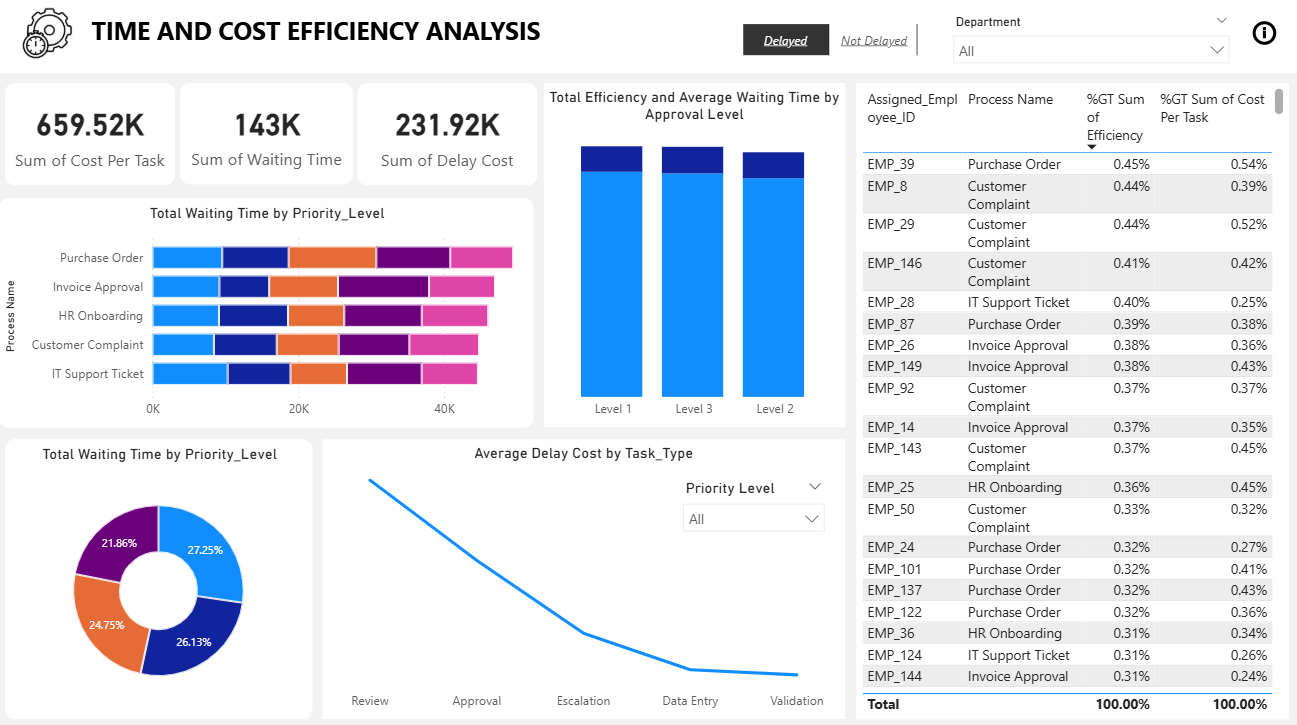

The dashboard page shown, as its layout file describes it:
{"tool":"powerbi","page":{"name":"Page 1","canvas":[1280,720],"ordinal":0},"visuals":[{"type":"shape","box":[0,0,1280.2,78.6],"z":0},{"type":"actionButton","box":[1217.9,23.2,47.7,31.8],"z":1000},{"type":"textbox","box":[89.7,16,460.7,45.5],"z":2000},{"type":"image","box":[0,8.6,99,61.1],"z":3000},{"type":"card","fields":{"Values":["Sum(Workflow.Cost_Per_Task)"]},"box":[9.8,88,166.3,100.3],"z":4000},{"type":"card","fields":{"Values":["Sum(Workflow.Waiting_Time)"]},"box":[181,88,170,99],"z":5000},{"type":"card","fields":{"Values":["Sum(Workflow.Delay_Cost)"]},"box":[354.6,88,176.1,100.3],"z":6000},{"type":"tableEx","fields":{"Values":["Workflow.Assigned_Employee_ID","Workflow.Process Name","Sum(Workflow.Efficiency)","Sum(Workflow.Cost Per Task)"]},"box":[842.5,88,423.1,622.4],"z":7000},{"type":"donutChart","title":"Total  Waiting Time by Priority_Level","fields":{"Category":["Workflow.Priority_Level"],"Y":["Sum(Workflow.Waiting Time)"]},"box":[9.8,436.2,301,274],"z":8000},{"type":"barChart","title":"Total  Waiting Time by Priority_Level","fields":{"Category":["Workflow.Process Name"],"Y":["Sum(Workflow.Delay Cost)"],"Series":["Workflow.Task_Type"]},"box":[3.7,200.3,523.4,224.8],"z":9000},{"type":"lineStackedColumnComboChart","title":"Total Efficiency and Average Waiting Time by Approval Level","fields":{"Category":["Workflow.Approval_Level"],"Y":["Sum(Workflow.Efficiency)","Avg(Workflow.Waiting Time)"]},"box":[536.9,88.5,294.9,336.6],"z":10001},{"type":"lineChart","title":"Average Delay Cost by Task_Type","fields":{"Category":["Workflow.Task_Type"],"Y":["Avg(Workflow.Delay Cost)"]},"box":[320.7,436.2,511.1,274],"z":10002},{"type":"slicer","fields":{"Values":["Workflow.Priority_Level"]},"box":[662.2,470.6,158.5,67.6],"z":10003},{"type":"slicer","fields":{"Values":["Workflow.Department"]},"box":[926.4,16,291.2,55.3],"z":10004},{"type":"slicer","fields":{"Values":["Workflow.Is_delayed"]},"box":[705.2,23.3,221.2,44.2],"z":10005}]}

Visuals, with their boxes in screenshot pixels (x1, y1, x2, y2), scaled from the page's 1280x720 canvas onto the 1297x725 screenshot:
shape: region(0, 0, 1296, 79)
actionButton: region(1234, 23, 1282, 55)
textbox: region(91, 16, 558, 62)
image: region(0, 9, 100, 70)
card - Sum(Workflow.Cost_Per_Task): region(10, 89, 178, 190)
card - Sum(Workflow.Waiting_Time): region(183, 89, 356, 188)
card - Sum(Workflow.Delay_Cost): region(359, 89, 538, 190)
tableEx - Workflow.Assigned_Employee_ID x Workflow.Process Name: region(854, 89, 1282, 715)
"Total  Waiting Time by Priority_Level" donutChart: region(10, 439, 315, 715)
"Total  Waiting Time by Priority_Level" barChart: region(4, 202, 534, 428)
"Total Efficiency and Average Waiting Time by Approval Level" lineStackedColumnComboChart: region(544, 89, 843, 428)
"Average Delay Cost by Task_Type" lineChart: region(325, 439, 843, 715)
slicer - Workflow.Priority_Level: region(671, 474, 832, 542)
slicer - Workflow.Department: region(939, 16, 1234, 72)
slicer - Workflow.Is_delayed: region(715, 23, 939, 68)
